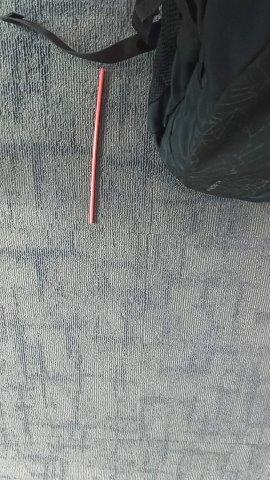sedotan: (88, 70, 105, 224)
